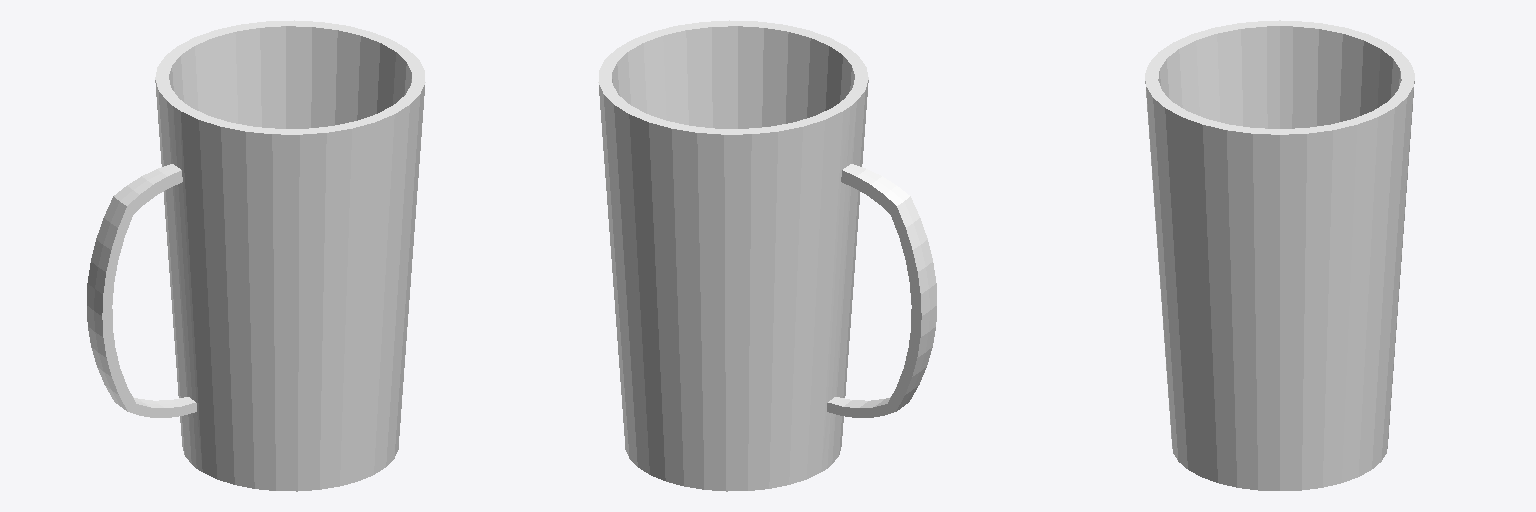
URDF robot description (mug):
<?xml version="1.0" encoding="utf-8"?>
<!-- This URDF was automatically created by SolidWorks to URDF Exporter! Originally created by [author] ([email redacted]) 
     Commit Version: 1.6.0-1-g15f4949  Build Version: 1.6.7594.29634
     For more information, please see http://wiki.ros.org/sw_urdf_exporter -->
<robot
  name="mug">
  <link
    name="base_link">
    <inertial>
      <origin
        xyz="0 0 0"
        rpy="0 0 0" />
      <mass
        value="0.25" />
      <inertia
        ixx="0.00067098"
        ixy="3.9108E-21"
        ixz="1.6836E-06"
        iyy="0.00070216"
        iyz="1.3147E-20"
        izz="0.0004113" />
    </inertial>
    <visual>
      <origin
        xyz="0 0 0"
        rpy="1.5707963267948966 0 3.141592653589793" />
      <geometry>
        <mesh
          filename="../meshes/mug/mug.STL" />
      </geometry>
      <material
        name="ceramics">
        <color
          rgba="1 1 1 1" />
      </material>
    </visual>
    <!-- <collision>
      <origin
        xyz="0 0 0"
        rpy="0 0 0" />
      <geometry>
        <mesh
          filename="../meshes/mug/mug.STL" />
      </geometry>
    </collision> -->
  </link>
</robot>

--- Render facts (derived) ---
3 views of the same robot in one strip: view 1: azimuth 30°, elevation 25°; view 2: azimuth 150°, elevation 25°; view 3: azimuth 270°, elevation 25° (orthographic).
Model mug with 1 links and 0 joints (none), rooted at base_link, posed all joints at 0.
Links seen in each view (by area): view 1: base_link; view 2: base_link; view 3: base_link.
Link boxes in pixels (left/top/right/bottom): base_link: left=87, top=20, right=425, bottom=491; base_link: left=598, top=20, right=936, bottom=491; base_link: left=1145, top=20, right=1414, bottom=490.
Size in the robot's own frame: 0.1338 by 0.0999 by 0.15 metres.
1 mesh visuals loaded from 1 distinct referenced files (1 binary STL).
